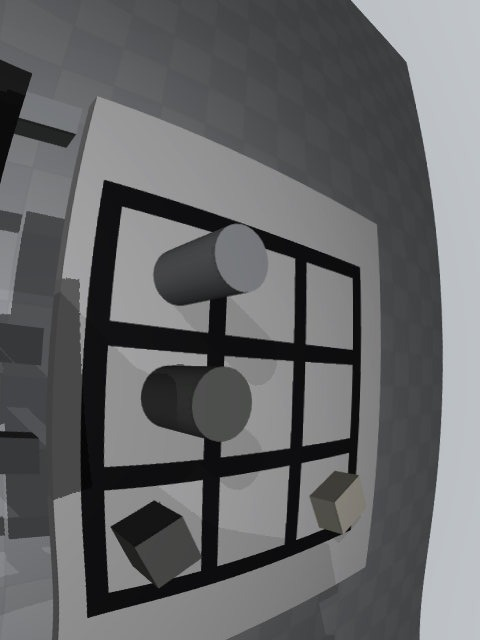can: (154, 223, 268, 306)
cube: (110, 501, 202, 588)
cylinder: (141, 366, 252, 442)
foam: (309, 471, 366, 535)
